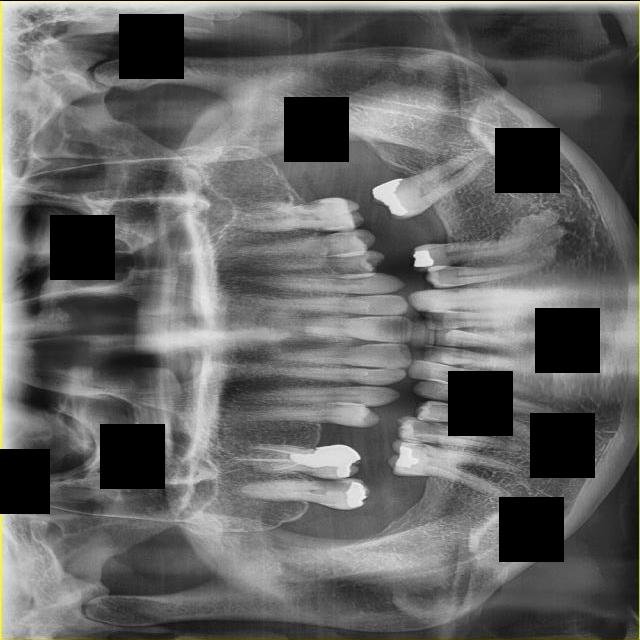74: (249, 444, 297, 455), (259, 462, 298, 473), (232, 455, 291, 462)
NucleOSS Implant: (288, 428, 361, 481), (371, 177, 407, 218), (340, 478, 371, 510), (394, 445, 421, 470), (411, 250, 435, 266)
Sterngold Implant: (402, 415, 448, 438), (311, 477, 355, 494), (300, 195, 329, 213), (410, 440, 435, 452), (347, 395, 372, 406), (435, 287, 471, 292), (333, 229, 353, 237), (322, 472, 339, 479), (312, 227, 338, 230), (363, 367, 386, 370)
